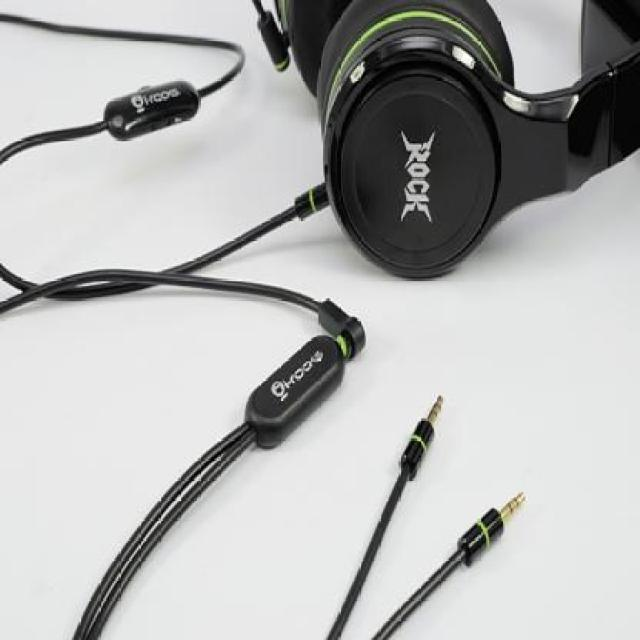earphone: (231, 5, 640, 315)
